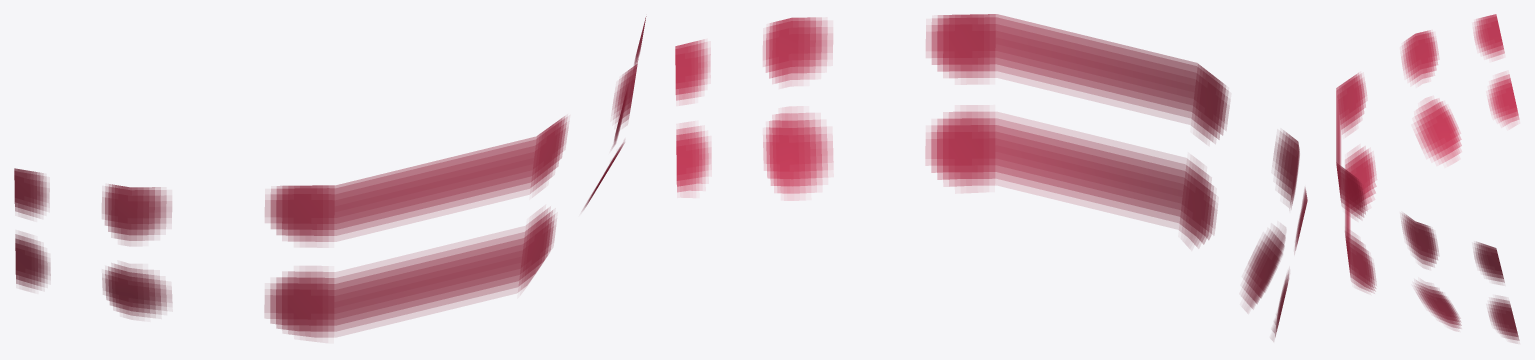
3 views of the same model, side by side, from view 1: azimuth 30°, elevation 25°; view 2: azimuth 150°, elevation 25°; view 3: azimuth 270°, elevation 25° (orthographic). The views are drawn at different scales.
Parts seen in each view (by area): view 1: ef_796; view 2: ef_796; view 3: ef_796.
Boxes of the visible parts, x1,y1,x2,y2 form: ef_796: (14, 16, 646, 341); ef_796: (675, 14, 1307, 341); ef_796: (1336, 14, 1519, 342).
Size of the model in its own units: 0.6538 by 0.1687 by 0.2183.
Materials: 1 (1 with a texture image).
